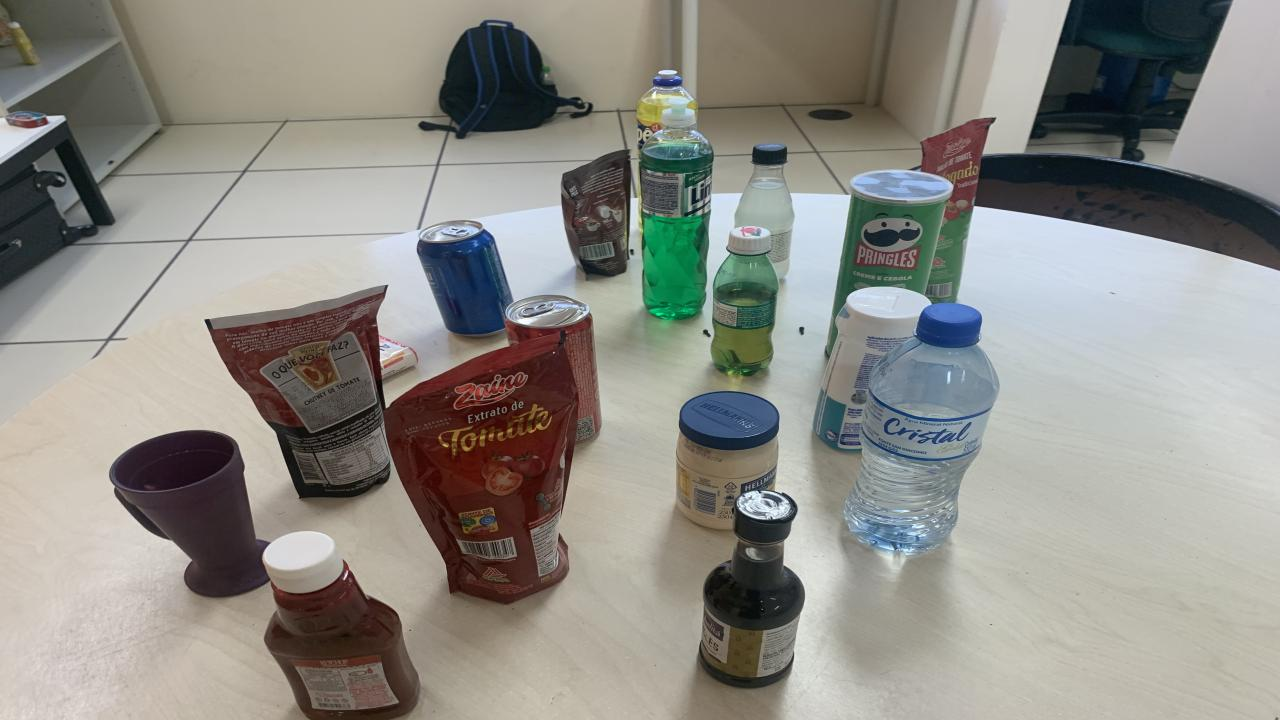Cleaner-Cleanup_Items: (812, 287, 930, 450)
Coffee-Pantry_Items: (562, 150, 630, 276)
Coke-Drinks: (505, 294, 602, 441)
Detergent-Cleanup_Items: (640, 98, 712, 319), (638, 69, 698, 152)
English_Sauce-Pantry_Items: (700, 489, 805, 688)
Guarana-Drinks: (710, 227, 778, 375)
Ketchup-Pantry_Items: (262, 532, 420, 718)
Mayonnaise-Pantry_Items: (675, 392, 780, 531)
Pringles-Snacks: (825, 171, 952, 354)
Soda-Drinks: (735, 142, 795, 278)
Tomato_Sauce-Pantry_Items: (385, 334, 578, 604), (205, 285, 390, 497), (920, 118, 995, 302)
Tonic-Drinks: (418, 219, 512, 336)
Water_Bottle-Drinks: (845, 304, 1000, 555)
